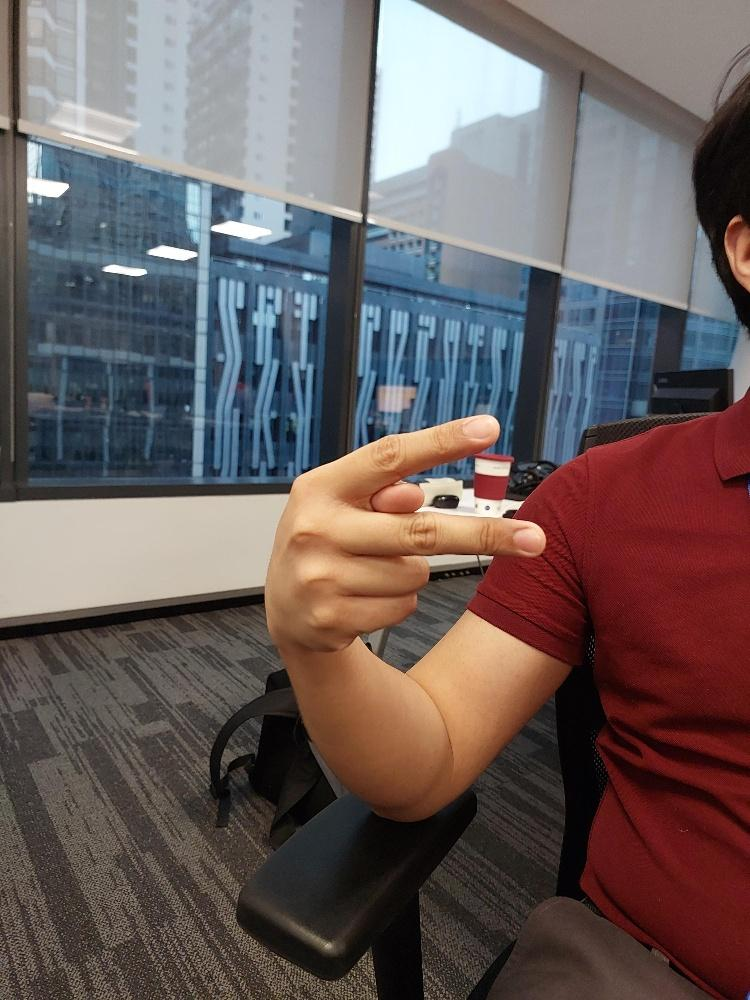k: (260, 408, 550, 655)
